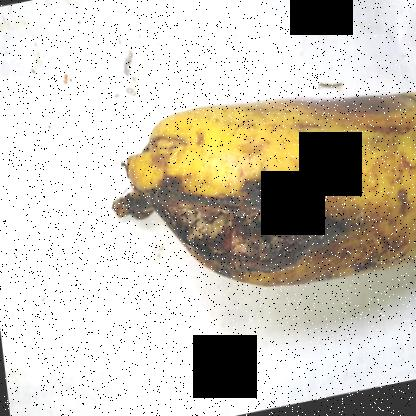rotten: (105, 154, 360, 282), (268, 33, 415, 142)
